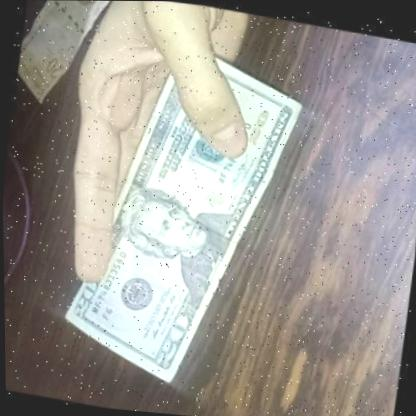dollar_front: (54, 25, 318, 409)
